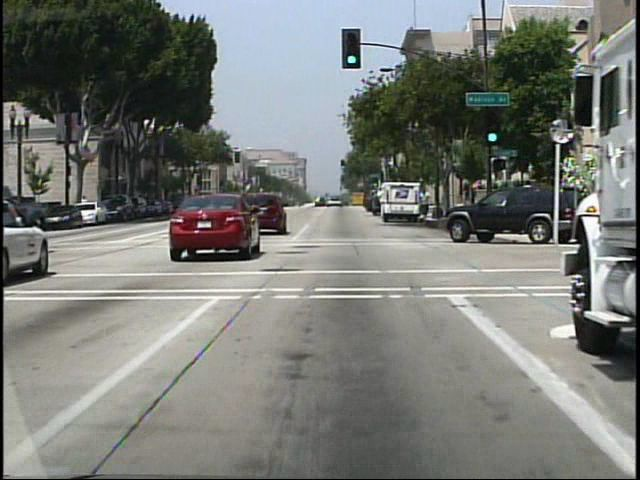person: (418, 187, 431, 220), (80, 192, 91, 218)
